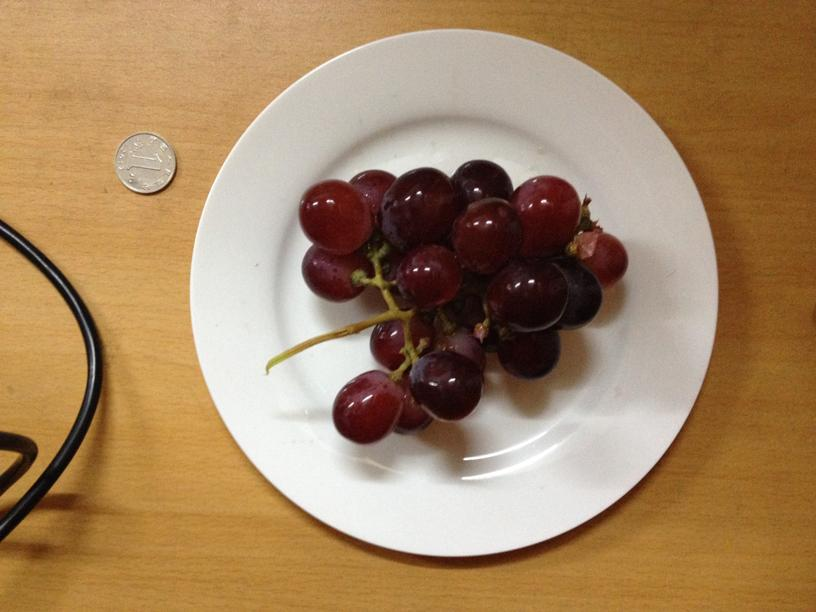coin: (114, 130, 175, 194)
grape: (301, 155, 627, 443)
